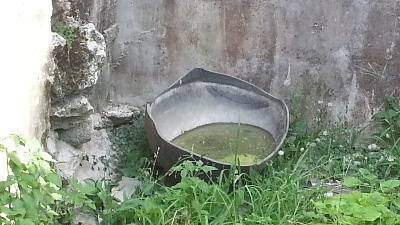bowl: (142, 65, 295, 185)
